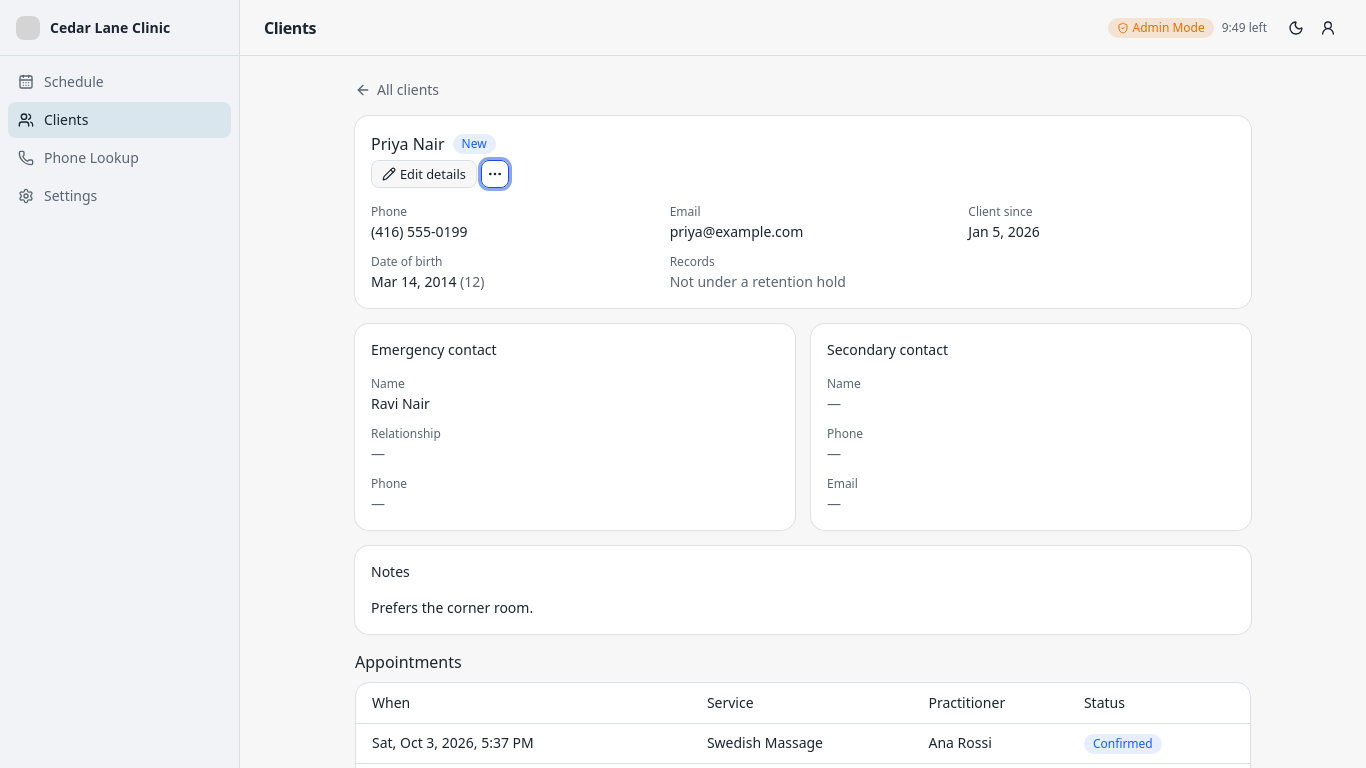
Test: upcoming confirmed visits block the request: the dialog says so and offers no erase button
Step 1. Press Enter
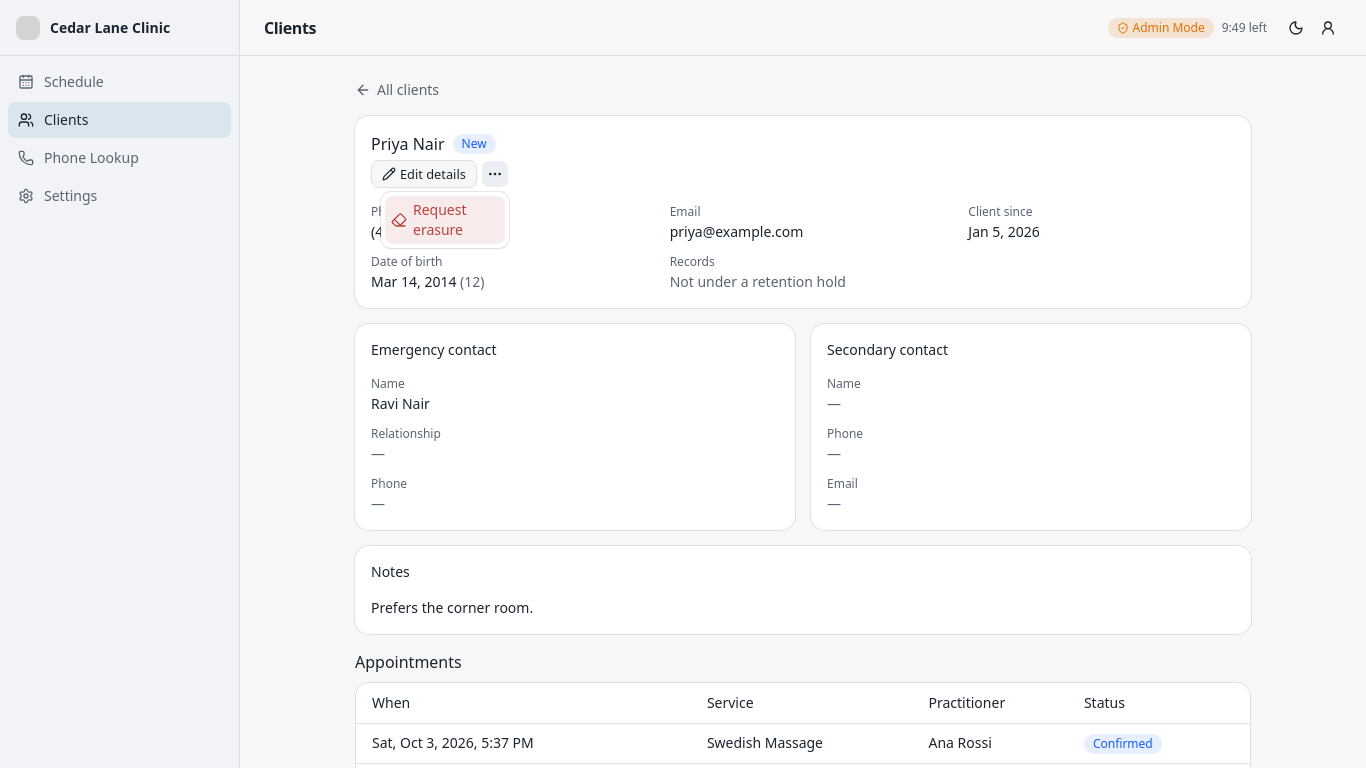
Step 2. Click the menu item "Request erasure" → (445, 220), box [385,196,505,244]
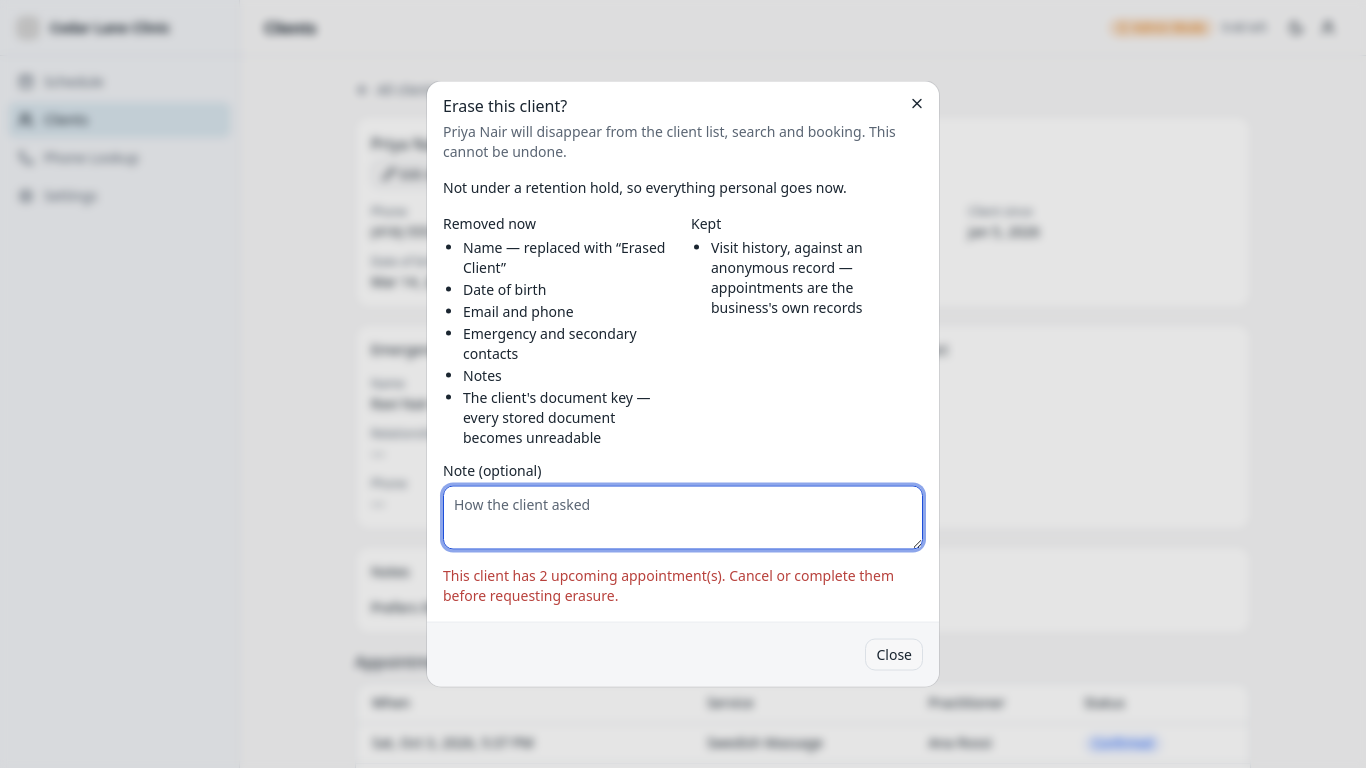
Check: the text "This client has 2 upcoming appointment(s). Cancel or complete them before requesting erasure." is shown, box [443,566,923,606]
